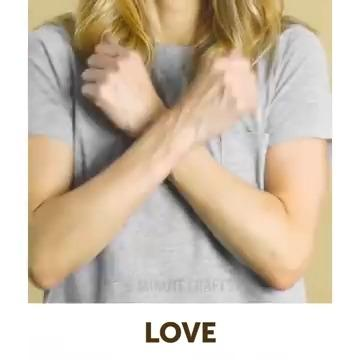love: (71, 18, 263, 176)
